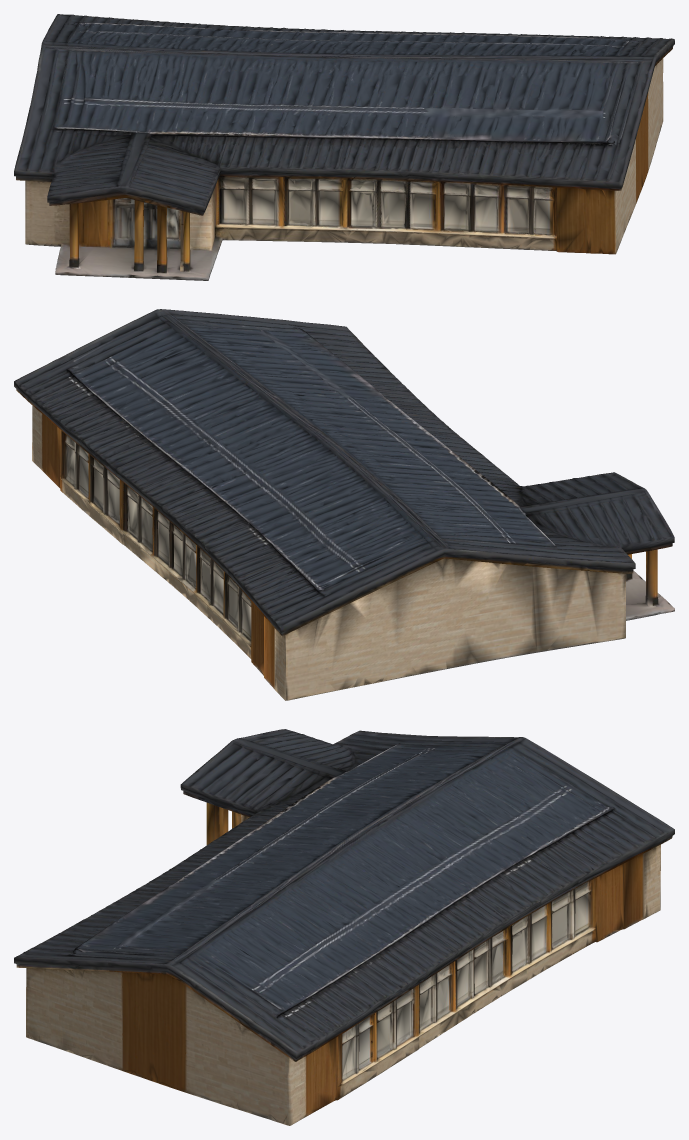
File: vann-hall.glb
The picture shows the model from 3 angles, top to bottom: view 1: azimuth 30°, elevation 25°; view 2: azimuth 150°, elevation 25°; view 3: azimuth 270°, elevation 25°; orthographic projection. The views are drawn at different scales.
Visible parts, largest first — view 1: node_0; view 2: node_0; view 3: node_0.
Part boxes in pixels (x1,y1,x2,y2): node_0: [14, 14, 674, 280]; node_0: [14, 309, 674, 700]; node_0: [14, 729, 674, 1125].
Size of the model in its own units: 1.18 by 0.215 by 1.01.
1 material, 1 textured.
